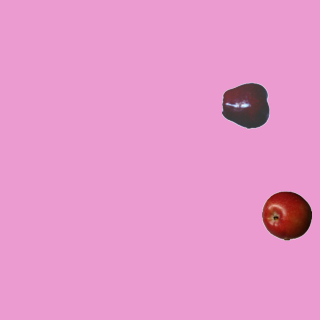Apple Braeburn: (261, 190, 311, 240)
Apple Red Delicious: (221, 80, 271, 130)
